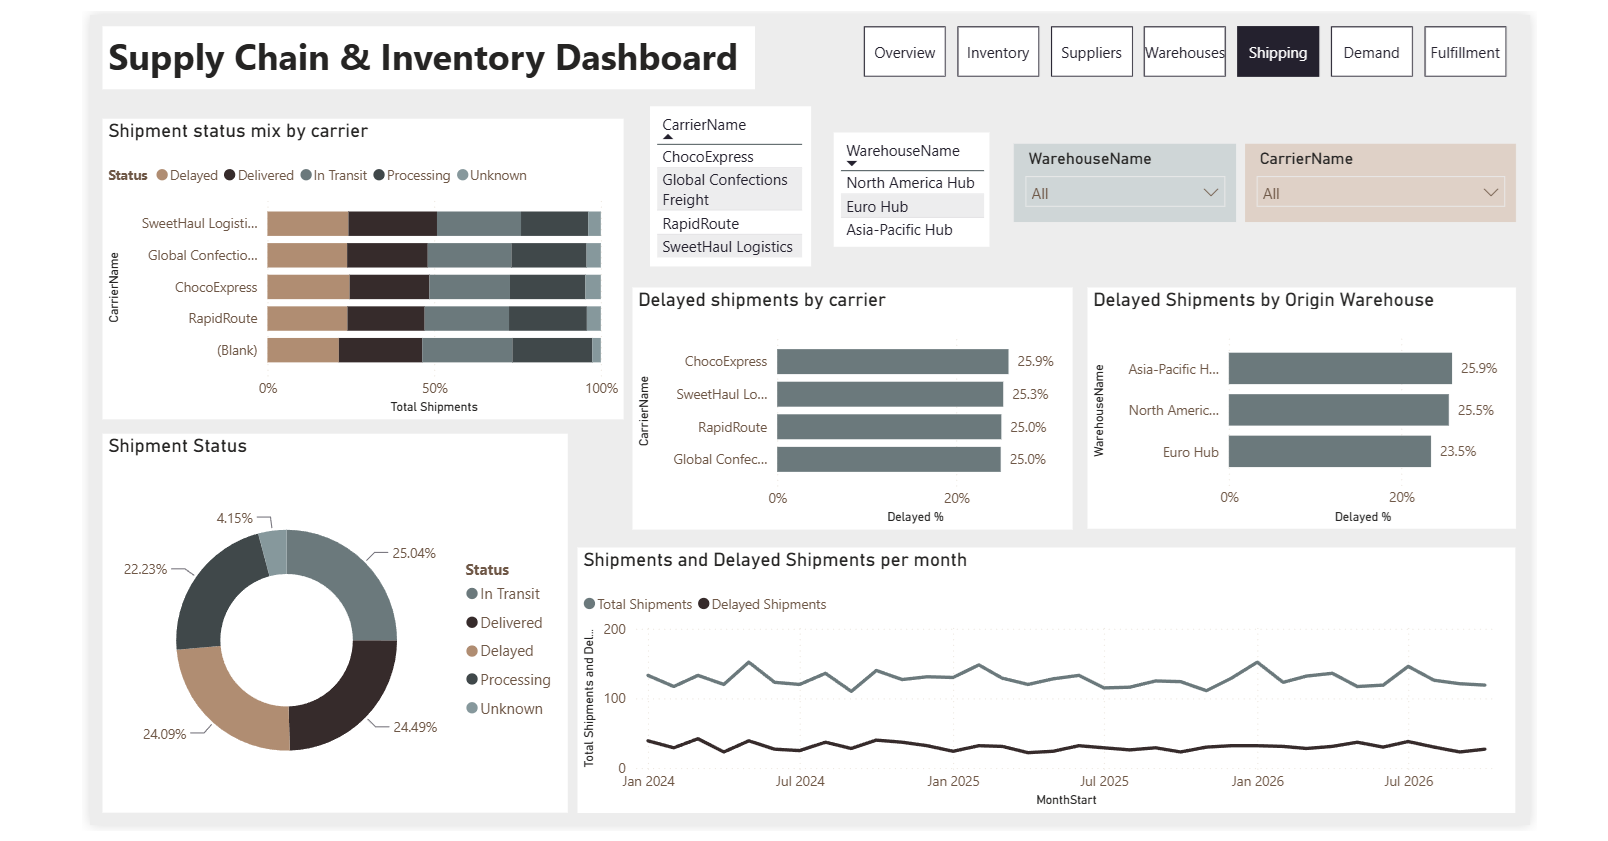

The dashboard page shown, as its layout file describes it:
{"tool":"powerbi","page":{"name":"Shipping","canvas":[1280,720],"ordinal":4},"visuals":[{"type":"clusteredBarChart","title":"Delayed shipments by carrier ","fields":{"Category":["carriers_clean.CarrierName"],"Y":["carriers_clean.Delayed %"]},"box":[482.6,241.8,391.3,215.2],"z":0},{"type":"clusteredBarChart","title":"Delayed Shipments by Origin Warehouse","fields":{"Category":["warehouses_clean.WarehouseName"],"Y":["carriers_clean.Delayed %"]},"box":[886.3,242.1,381.1,214.7],"z":1000},{"type":"hundredPercentStackedBarChart","title":"Shipment status mix by carrier","fields":{"Category":["carriers_clean.CarrierName"],"Y":["carriers_clean.Total Shipments"],"Series":["shipment_tracking_clean.Status"]},"box":[11.6,92.6,463.2,267.4],"z":2000},{"type":"lineChart","title":"Shipments and Delayed Shipments per month","fields":{"Y":["carriers_clean.Total Shipments","carriers_clean.Delayed Shipments"],"Category":["shipment_tracking_clean.MonthStart"]},"box":[433.7,473.7,833.7,235.8],"z":3000},{"type":"donutChart","title":"Shipment Status","fields":{"Category":["shipment_tracking_clean.Status"],"Y":["carriers_clean.Total Shipments"]},"box":[11.6,372.6,413.7,336.8],"z":4000},{"type":"slicer","fields":{"Values":["carriers_clean.CarrierName"]},"box":[1026.3,114.7,241.1,69.5],"z":5000},{"type":"slicer","fields":{"Values":["warehouses_clean.WarehouseName"]},"box":[821.1,114.7,197.8,69.6],"z":6000},{"type":"tableEx","fields":{"Values":["carriers_clean.CarrierName"]},"box":[497.3,81,143.5,142.4],"z":7000},{"type":"tableEx","fields":{"Values":["warehouses_clean.WarehouseName"]},"box":[661.3,104.1,138.8,102],"z":8000},{"type":"textbox","box":[11.6,10.5,580,55.8],"z":9000},{"type":"pageNavigator","box":[687.6,10.5,575,45.7],"z":10000}]}

Visuals, with their boxes on the page's 1280x720 design canvas (x1, y1, x2, y2). These are canvas units, not pixel positions in the 1608x841 screenshot, which may show the page scaled, cropped or inside an application window:
"Delayed shipments by carrier " clusteredBarChart: crop(483, 242, 874, 457)
"Delayed Shipments by Origin Warehouse" clusteredBarChart: crop(886, 242, 1267, 457)
"Shipment status mix by carrier" hundredPercentStackedBarChart: crop(12, 93, 475, 360)
"Shipments and Delayed Shipments per month" lineChart: crop(434, 474, 1267, 710)
"Shipment Status" donutChart: crop(12, 373, 425, 709)
slicer - carriers_clean.CarrierName: crop(1026, 115, 1267, 184)
slicer - warehouses_clean.WarehouseName: crop(821, 115, 1019, 184)
tableEx - carriers_clean.CarrierName: crop(497, 81, 641, 223)
tableEx - warehouses_clean.WarehouseName: crop(661, 104, 800, 206)
textbox: crop(12, 10, 592, 66)
pageNavigator: crop(688, 10, 1263, 56)
